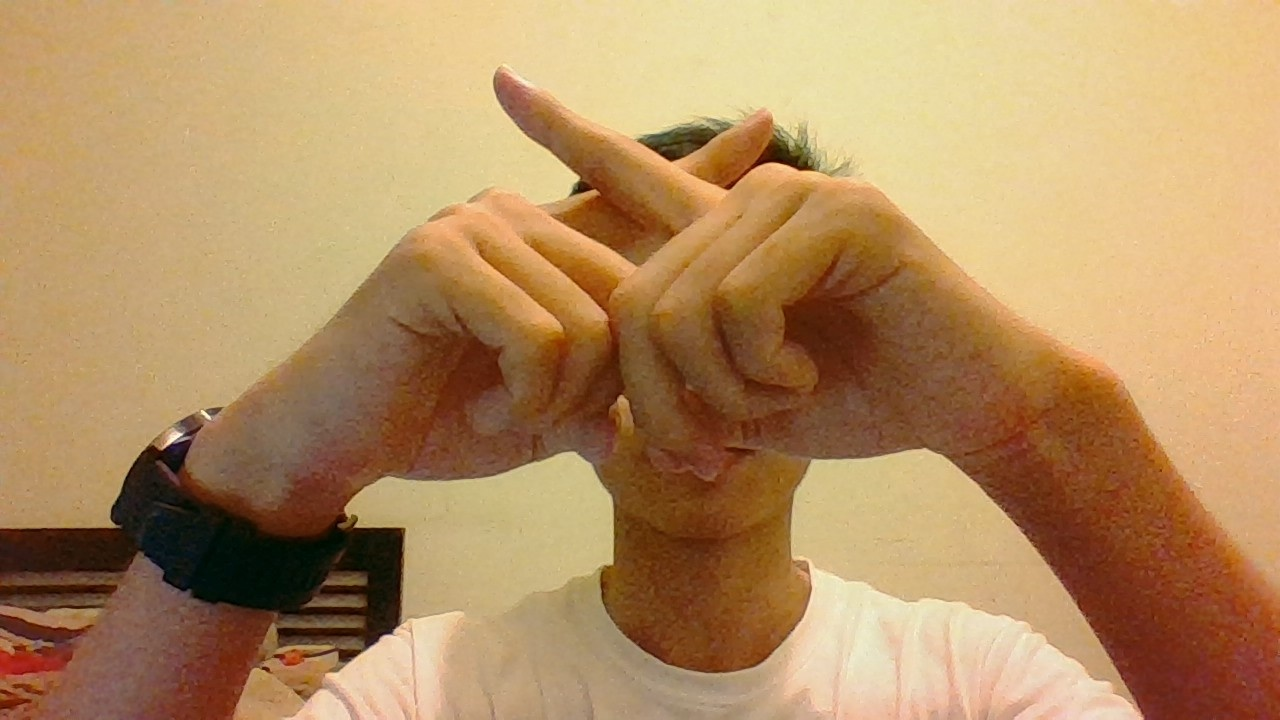No: (392, 57, 970, 456)
